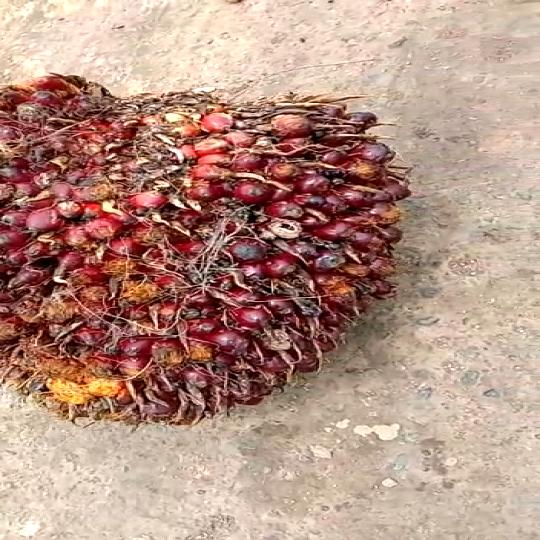masak: (0, 76, 414, 431)
